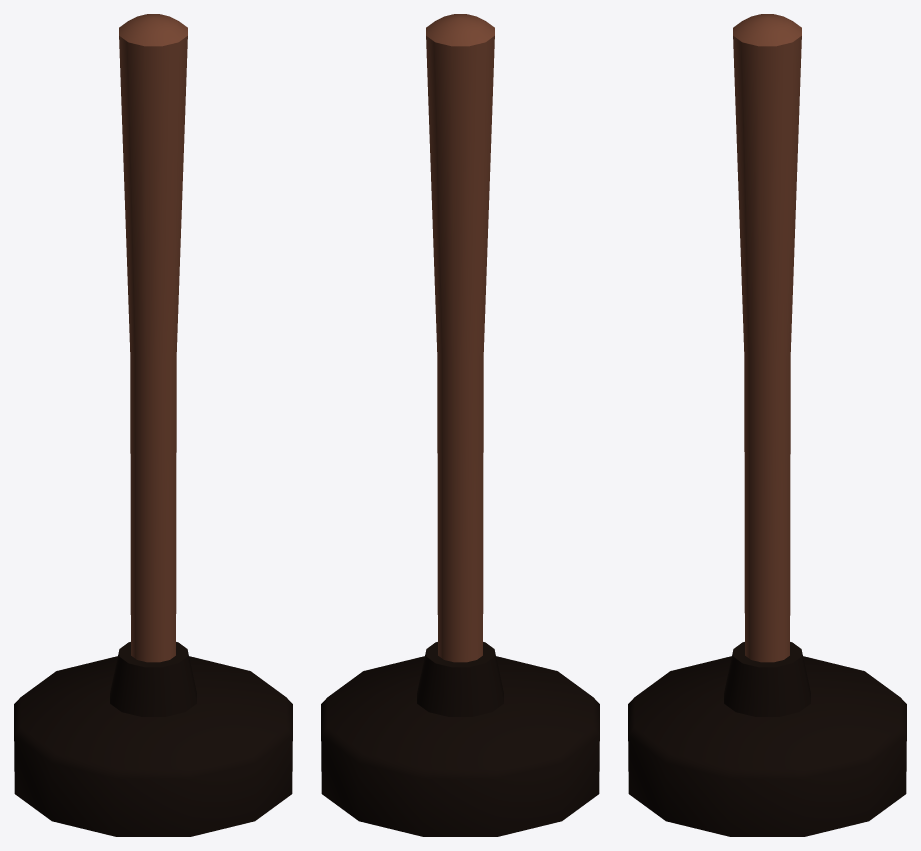
The model's file is Vantuz.FBX.
The picture shows the model from 3 angles, left to right: view 1: azimuth 30°, elevation 25°; view 2: azimuth 150°, elevation 25°; view 3: azimuth 270°, elevation 25°; orthographic projection.
Visible parts, largest first — view 1: Bathroom_Vantuz_01; view 2: Bathroom_Vantuz_01; view 3: Bathroom_Vantuz_01.
Boxes of the visible parts, box(x1,y1,x2,y2) form: Bathroom_Vantuz_01: box(14, 14, 292, 836); Bathroom_Vantuz_01: box(321, 14, 599, 836); Bathroom_Vantuz_01: box(628, 14, 906, 836).
Bounding box in the file's own units: 24.04 × 72.3 × 24.04.
